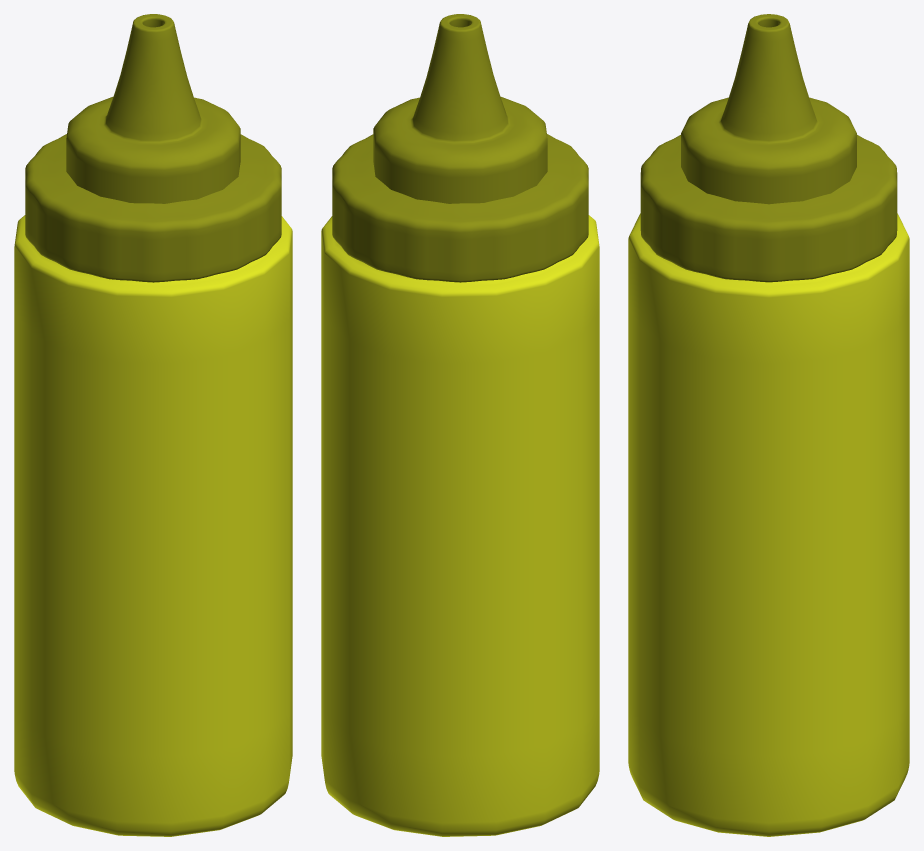
File: Mustard Bottle.fbx
3 views of the same model, side by side, from view 1: azimuth 30°, elevation 25°; view 2: azimuth 150°, elevation 25°; view 3: azimuth 270°, elevation 25° (orthographic).
Parts seen in each view (by area): view 1: bottle, screw, nozzel; view 2: bottle, screw, nozzel; view 3: bottle, screw, nozzel.
Boxes of the visible parts, left/top/right/bottom form: bottle: left=14, top=215, right=292, bottom=836; screw: left=25, top=134, right=281, bottom=282; nozzel: left=66, top=14, right=240, bottom=203; bottle: left=321, top=215, right=599, bottom=836; screw: left=332, top=134, right=588, bottom=282; nozzel: left=373, top=14, right=547, bottom=203; bottle: left=628, top=213, right=909, bottom=836; screw: left=640, top=135, right=897, bottom=282; nozzel: left=681, top=14, right=856, bottom=204.
Bounding box in the file's own units: 0.9876 × 2.94 × 0.9876.
